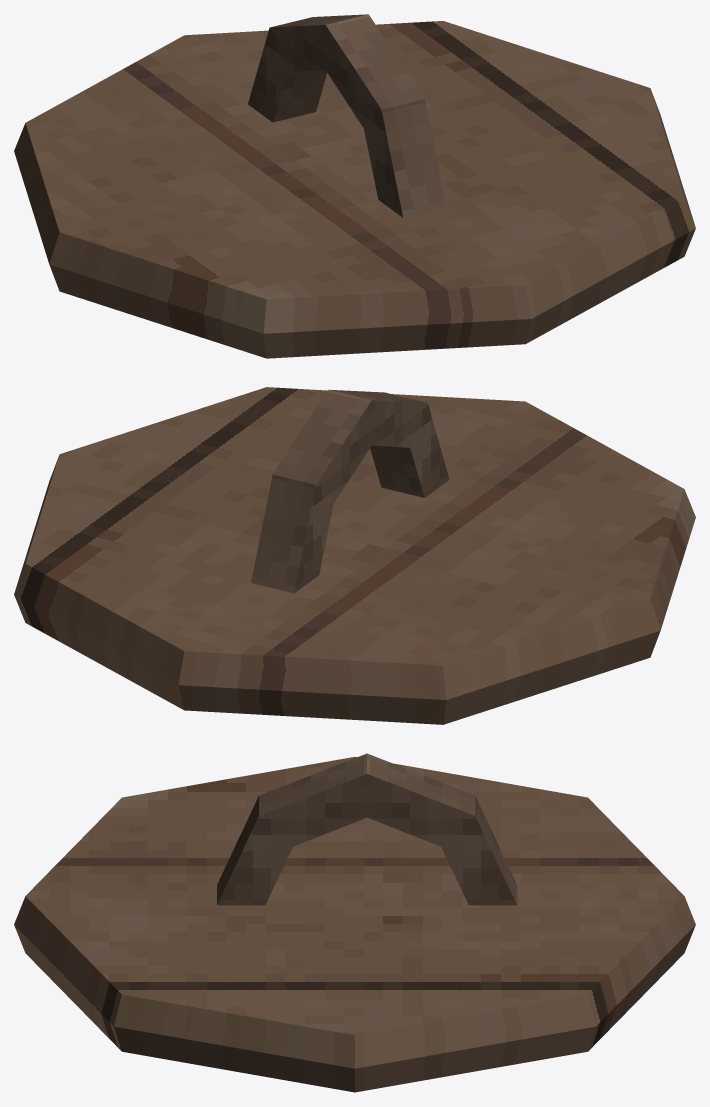
The model's file is barrel_lid_small_alt2.glb.
The picture shows the model from 3 angles, top to bottom: view 1: azimuth 30°, elevation 25°; view 2: azimuth 150°, elevation 25°; view 3: azimuth 270°, elevation 25°; orthographic projection. The views are drawn at different scales.
Parts seen in each view (by area): view 1: barrel_lid_small_alt2; view 2: barrel_lid_small_alt2; view 3: barrel_lid_small_alt2.
Part boxes in pixels (x1,y1,x2,y2): barrel_lid_small_alt2: (14,14,695,358); barrel_lid_small_alt2: (14,387,695,724); barrel_lid_small_alt2: (14,753,695,1092).
Size of the model in its own units: 0.5785 by 0.1768 by 0.5785.
Materials: 2 (2 with a texture image).
